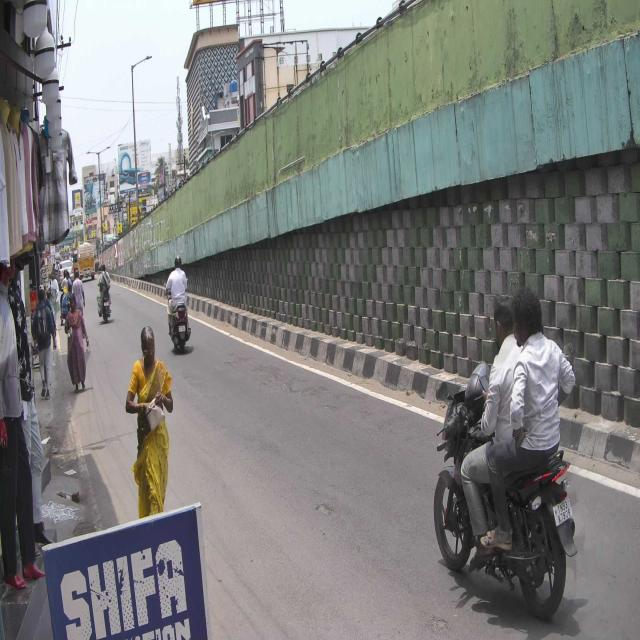double_rider: (432, 282, 580, 618)
